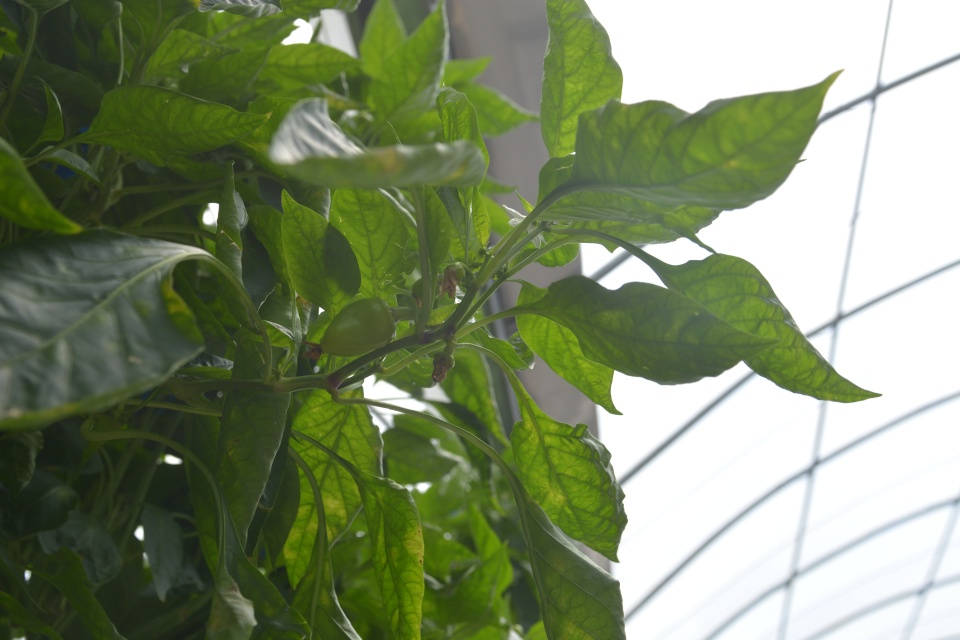immature: (298, 294, 397, 363)
